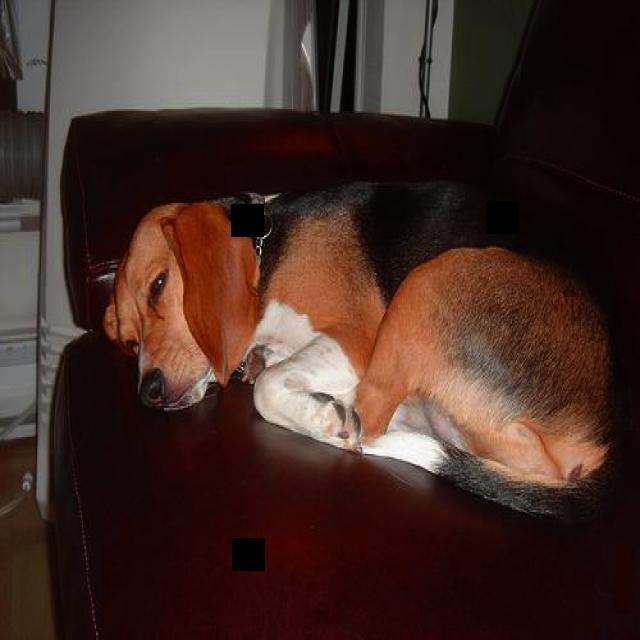adult_dog: (103, 173, 626, 520)
